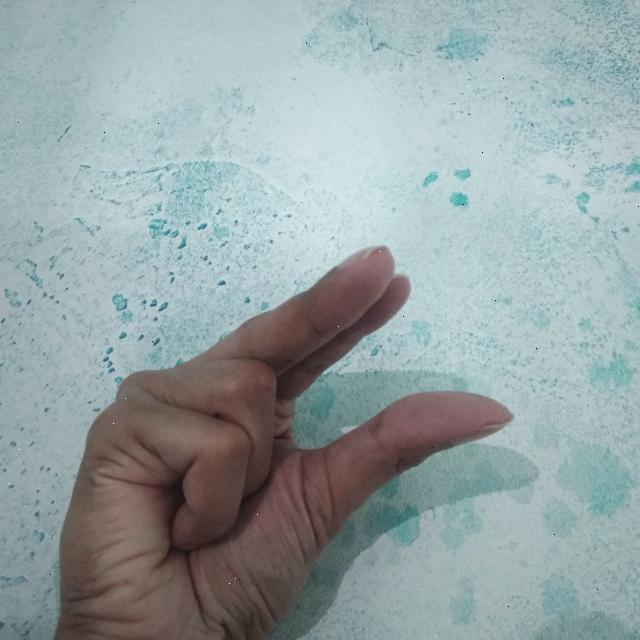G: (52, 244, 514, 640)
